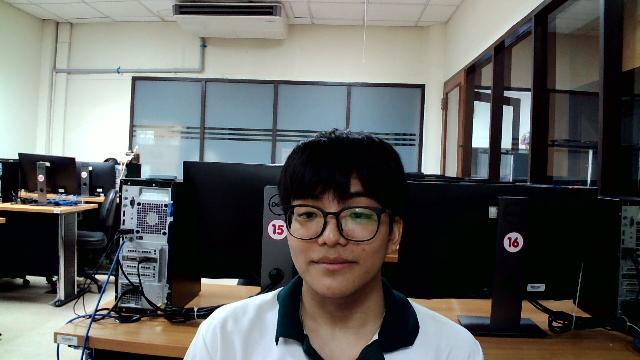fokus: (285, 178, 387, 301)
